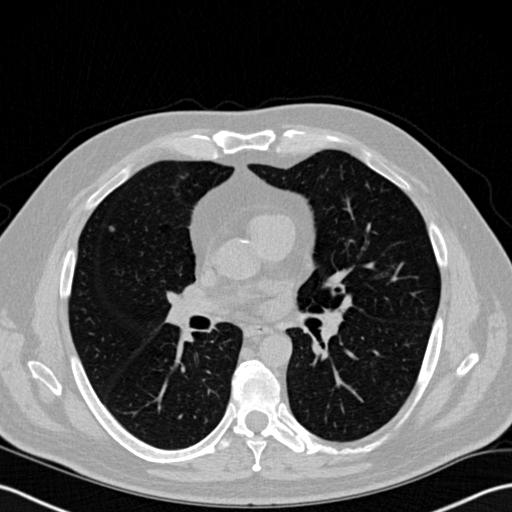nodule: (106, 223, 117, 234)
